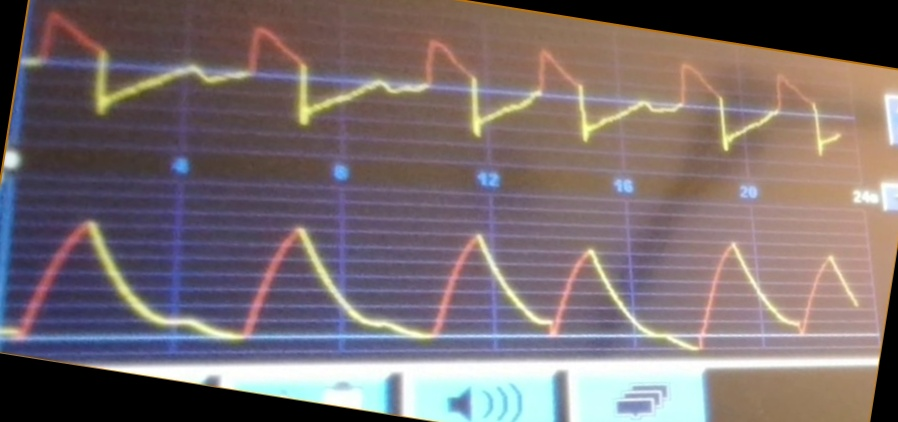Ineffective_effort Flow: (28, 7, 841, 156)
Ineffective_effort Volume: (9, 207, 858, 350)
